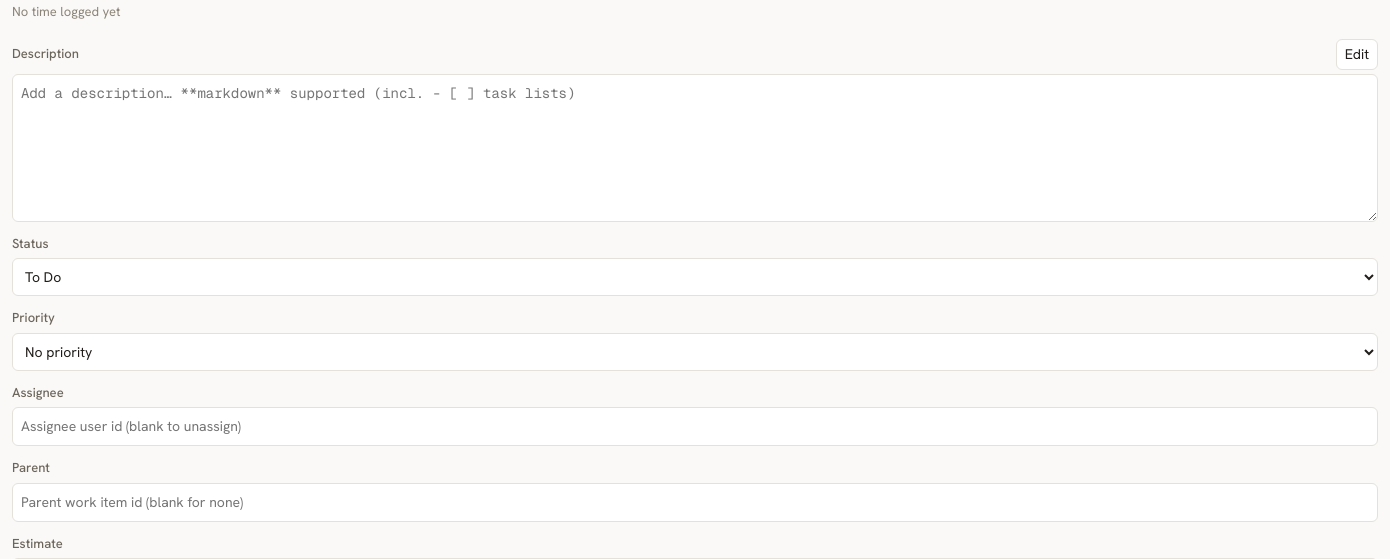
Test: ItemDetail › persists a field change (PATCH with version) and appends an activity entry
(page scrolled)
Change priority None → Urgent.
Select "Urgent" in the dropdown labelled "Priority": (695, 352) [12,333,1378,371]
(page scrolled)
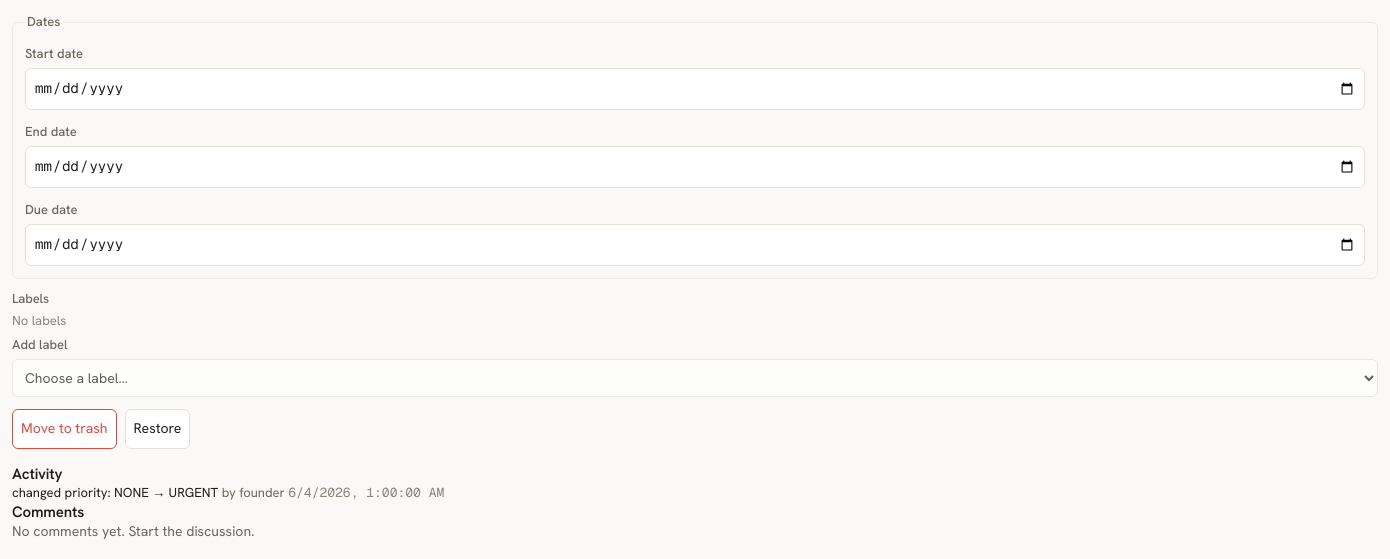
Expected: the list item with test id "activity-entry" shows "priority", [12,484,218,501]
Expected: the list item with test id "activity-entry" shows "URGENT", [12,484,218,501]
Expected: the list item with test id "activity-entry" shows "founder", [239,484,285,501]
